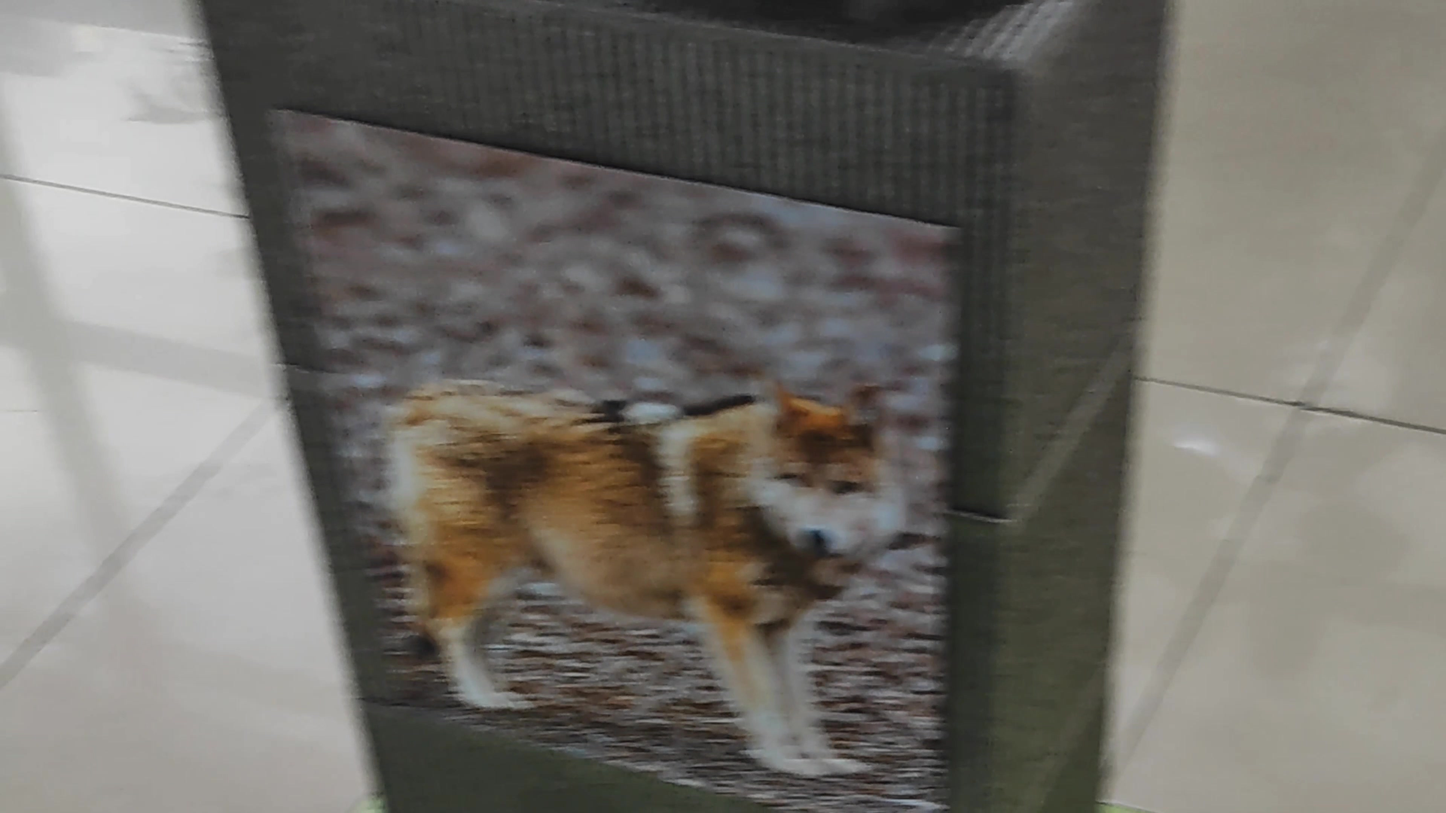wolf: (322, 241, 956, 763)
